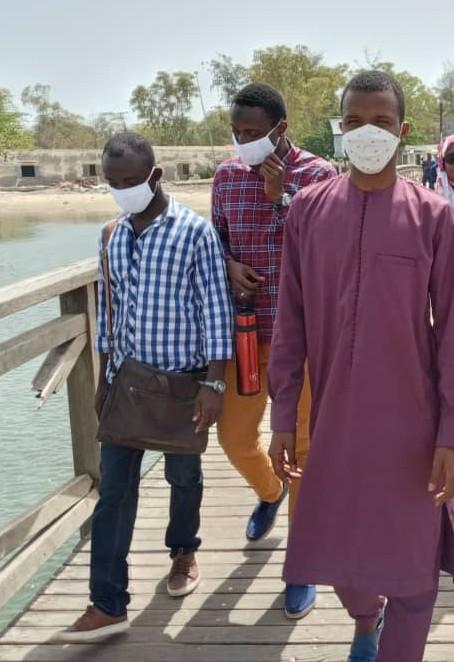Wearing Mask: (55, 63, 180, 224), (203, 62, 307, 190)
